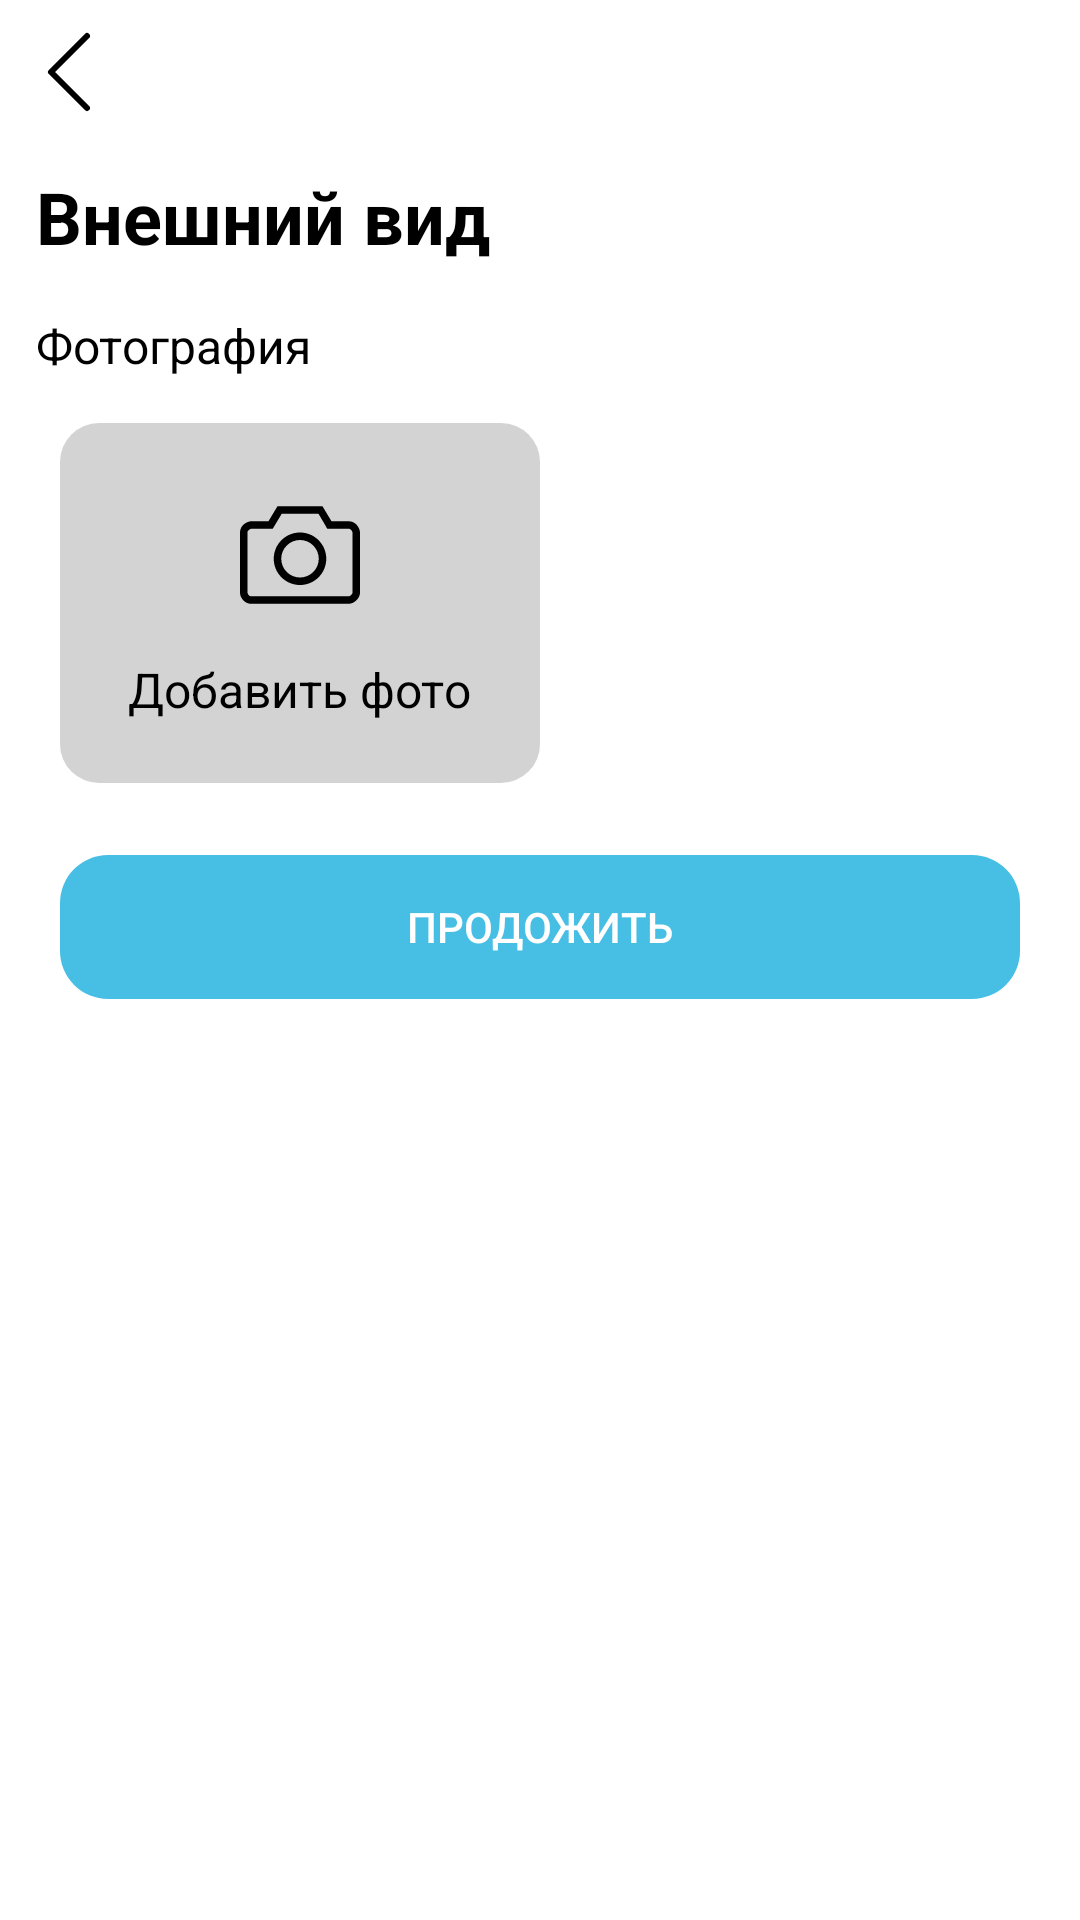

Locate icon controls on the screen. Image size 1080×1920, boxes as (x1=x1, y1=y1, x2=x2, y2=y2).
back arrow: (x1=48, y1=32, x2=90, y2=111)
camera: (x1=240, y1=506, x2=360, y2=604)
